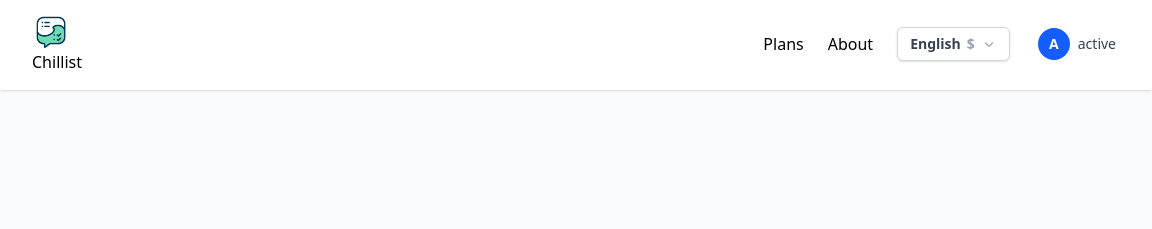
Test: Auth Flow Integration › Sign Out › clears auth state and shows Sign In / Sign Up links
What coordinates should you click on to do the following:
click the button with aria-label "User menu"
I would click on:
 (1077, 44)
Its box is [1034,24,1120,64].
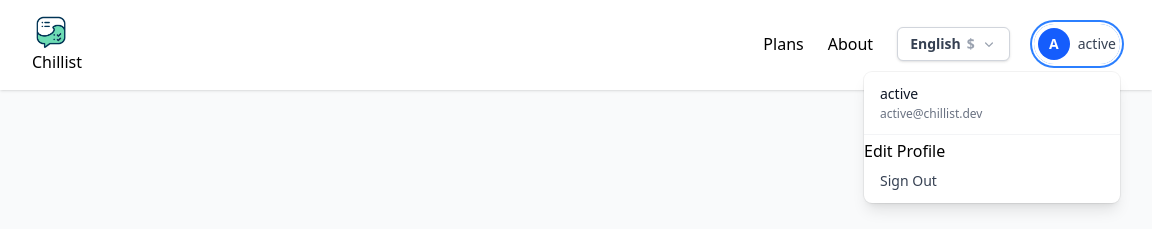
What coordinates should you click on to do the following:
click the button "Sign Out"
I would click on:
 (992, 181)
Its box is [864,163,1120,199].
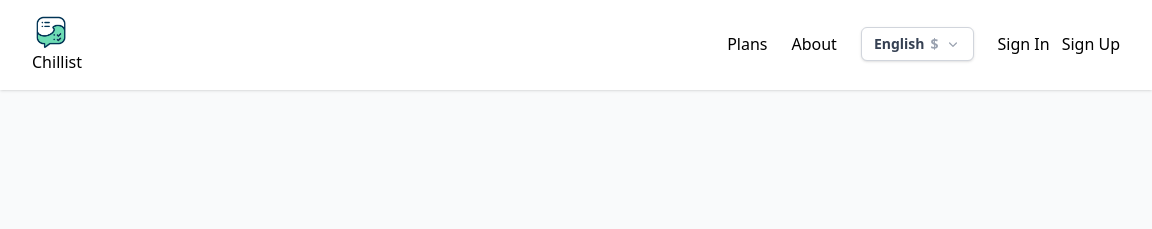
Check: the link "Sign In" is shown, box [998,32,1050,56]
Check: the link "Sign Up" is shown, box [1062,32,1120,56]
